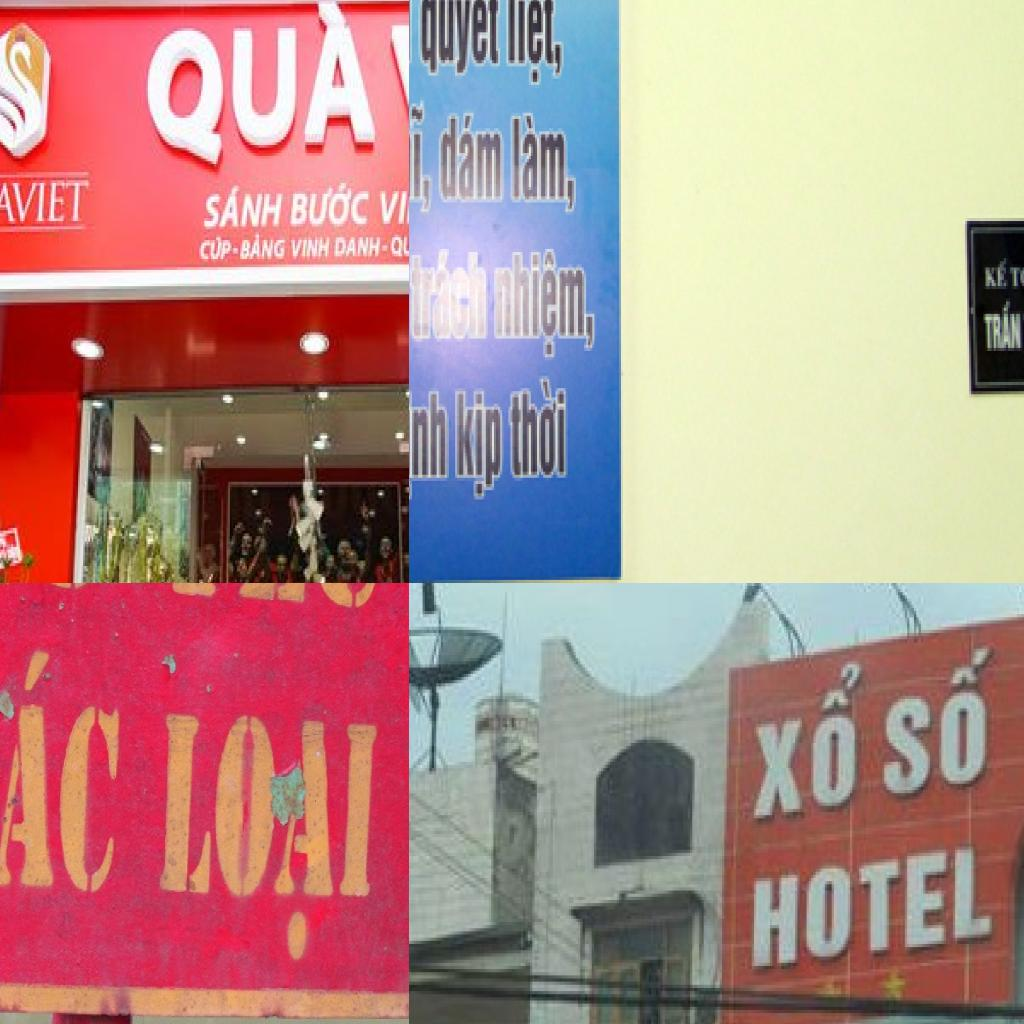text: (157, 708, 380, 962), (143, 1, 387, 169), (747, 828, 1003, 978), (0, 640, 126, 896), (750, 652, 868, 831), (882, 642, 1003, 802), (492, 249, 598, 363), (409, 249, 490, 348), (510, 110, 580, 218), (506, 376, 572, 487), (416, 0, 502, 81), (435, 112, 506, 208), (502, 0, 569, 91), (453, 391, 506, 503), (0, 177, 91, 240), (409, 385, 450, 508), (290, 183, 372, 232), (204, 186, 286, 234), (409, 100, 434, 220), (981, 301, 1024, 354), (332, 234, 390, 262), (238, 232, 288, 264), (376, 188, 409, 229), (197, 234, 242, 264), (290, 234, 332, 262), (984, 258, 1012, 292), (388, 232, 409, 262), (1010, 261, 1024, 292)
